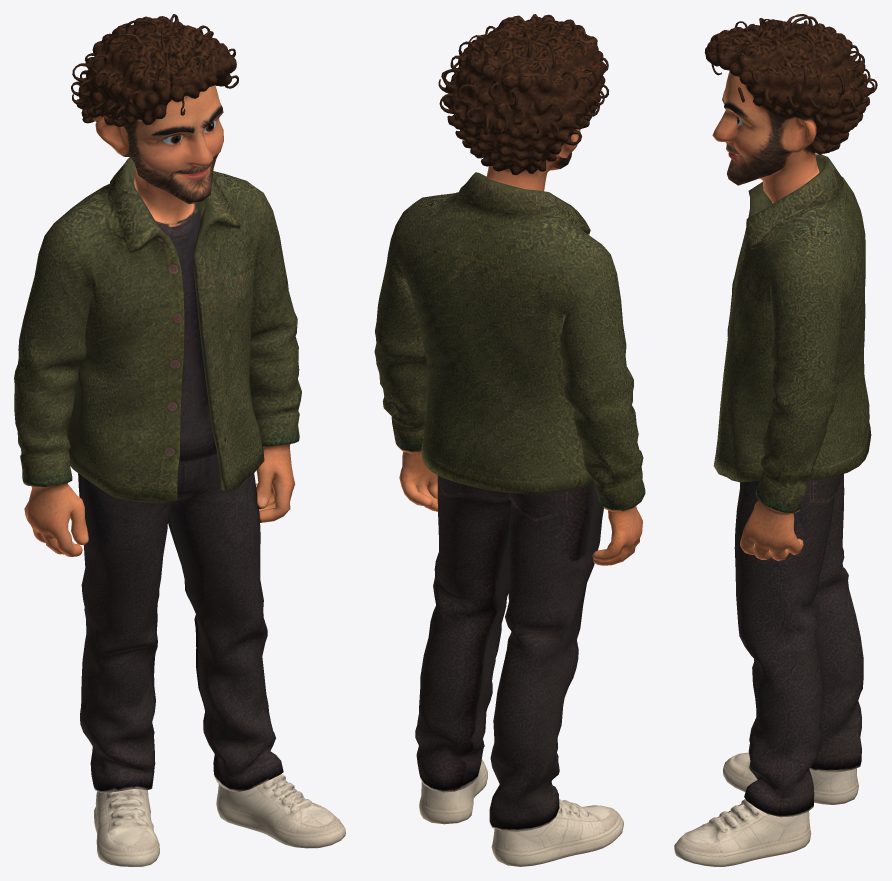
Rendered from charaf_light_normalshape.glb.
3 renders of one model, left to right at view 1: azimuth 30°, elevation 25°; view 2: azimuth 150°, elevation 25°; view 3: azimuth 270°, elevation 25°, orthographic. The views are drawn at different scales.
Visible parts, largest first — view 1: tripo_node_84265025-36a8-47de-af09-c58d48122b62; view 2: tripo_node_84265025-36a8-47de-af09-c58d48122b62; view 3: tripo_node_84265025-36a8-47de-af09-c58d48122b62.
Boxes of the visible parts, x1,y1,x2,y2 form: tripo_node_84265025-36a8-47de-af09-c58d48122b62: (14, 14, 345, 866); tripo_node_84265025-36a8-47de-af09-c58d48122b62: (374, 14, 645, 866); tripo_node_84265025-36a8-47de-af09-c58d48122b62: (674, 14, 877, 866).
Bounding box in the file's own units: 0.3433 × 0.9995 × 0.2349.
Materials: 1 (1 with a texture image).
